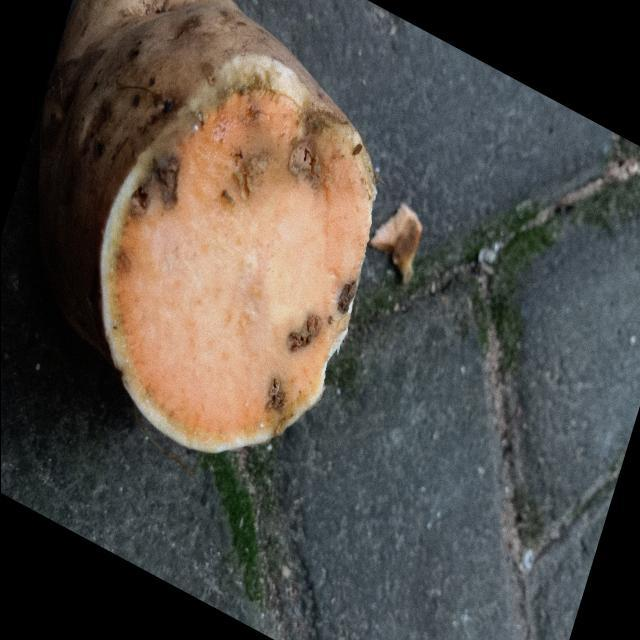Sick Sweet Potato_Tuber Rot: (100, 55, 374, 452)
